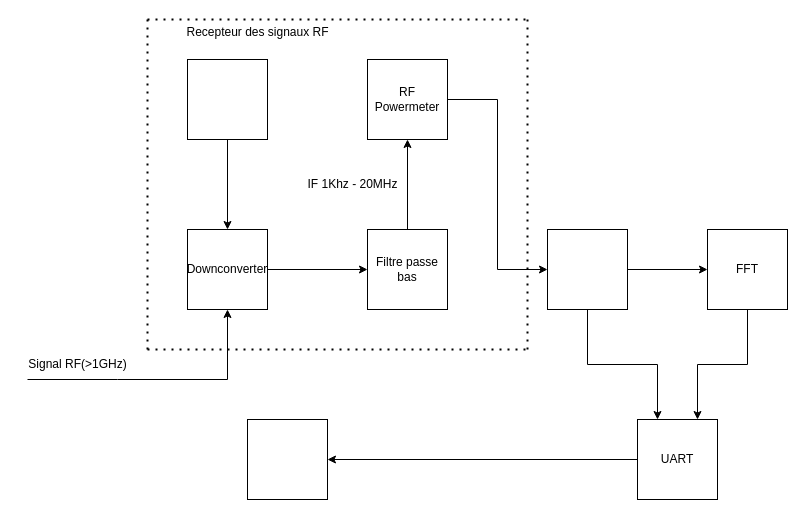
Image size: 805x517. Some labels were removed from this diagram. Each missing label, with the box of its shape:
ADC: (546, 228, 628, 310)
IHM: (246, 418, 328, 500)
LO: (186, 58, 268, 140)
